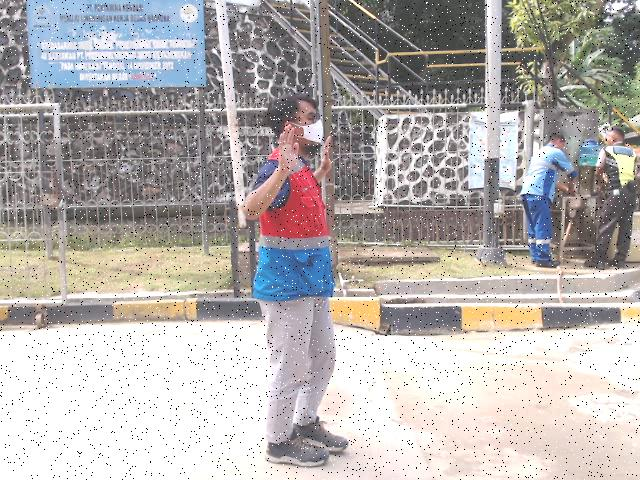mask: (303, 120, 324, 146)
safety-shoes: (265, 434, 329, 468), (295, 416, 351, 454)
